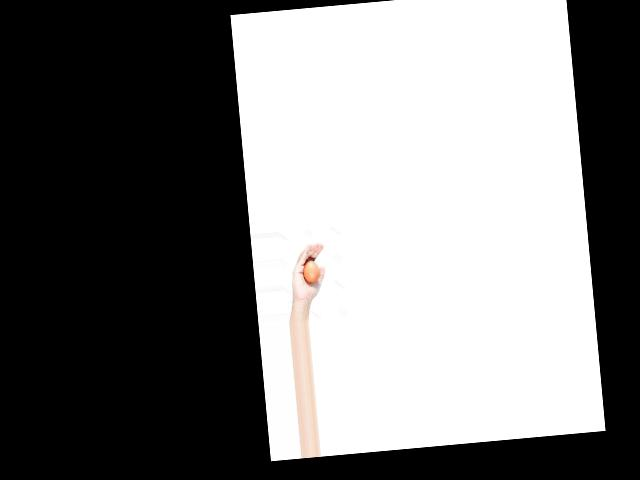egg: (302, 260, 320, 282)
